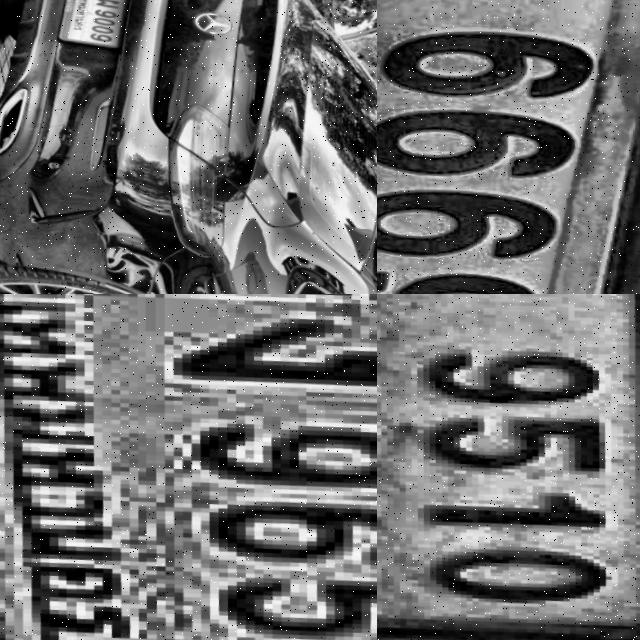license-plate: (0, 294, 377, 640), (377, 294, 640, 640), (377, 0, 640, 294), (49, 0, 140, 50)
